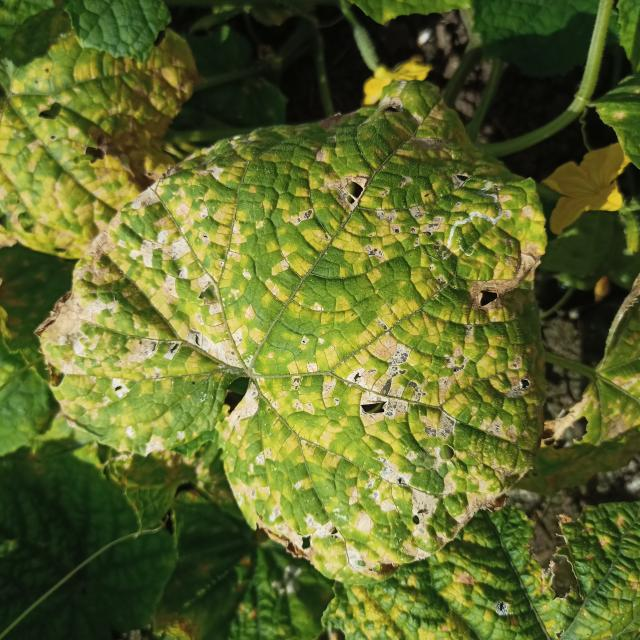disease_cucumber: (66, 97, 540, 570), (0, 31, 196, 264)
